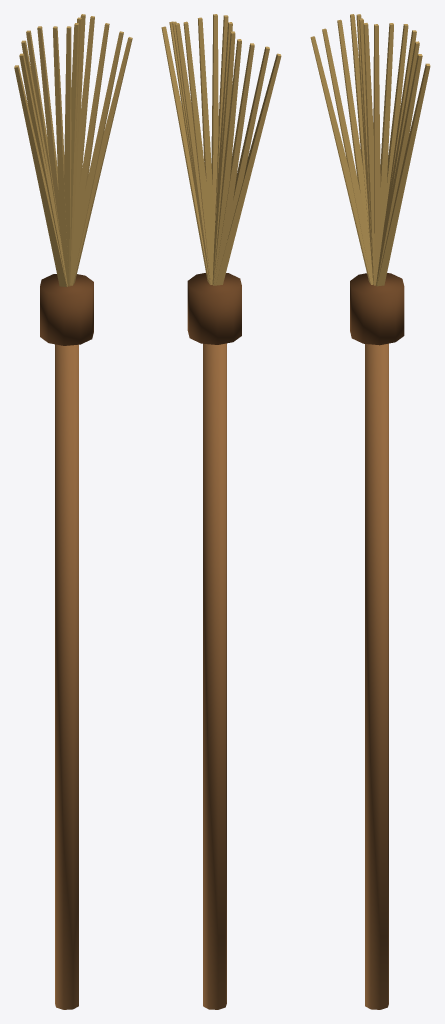
Rendered from weapon_sapu.glb.
3 views of the same model, side by side, from view 1: azimuth 30°, elevation 25°; view 2: azimuth 150°, elevation 25°; view 3: azimuth 330°, elevation 25° (orthographic).
Parts seen in each view (by area): view 1: pickup_sapu; view 2: pickup_sapu; view 3: pickup_sapu.
Boxes of the visible parts, bbox=[...] form: pickup_sapu: bbox=[14, 14, 132, 1009]; pickup_sapu: bbox=[161, 14, 281, 1009]; pickup_sapu: bbox=[310, 14, 430, 1009].
Size of the model in its own units: 0.1992 by 1.57 by 0.08.
